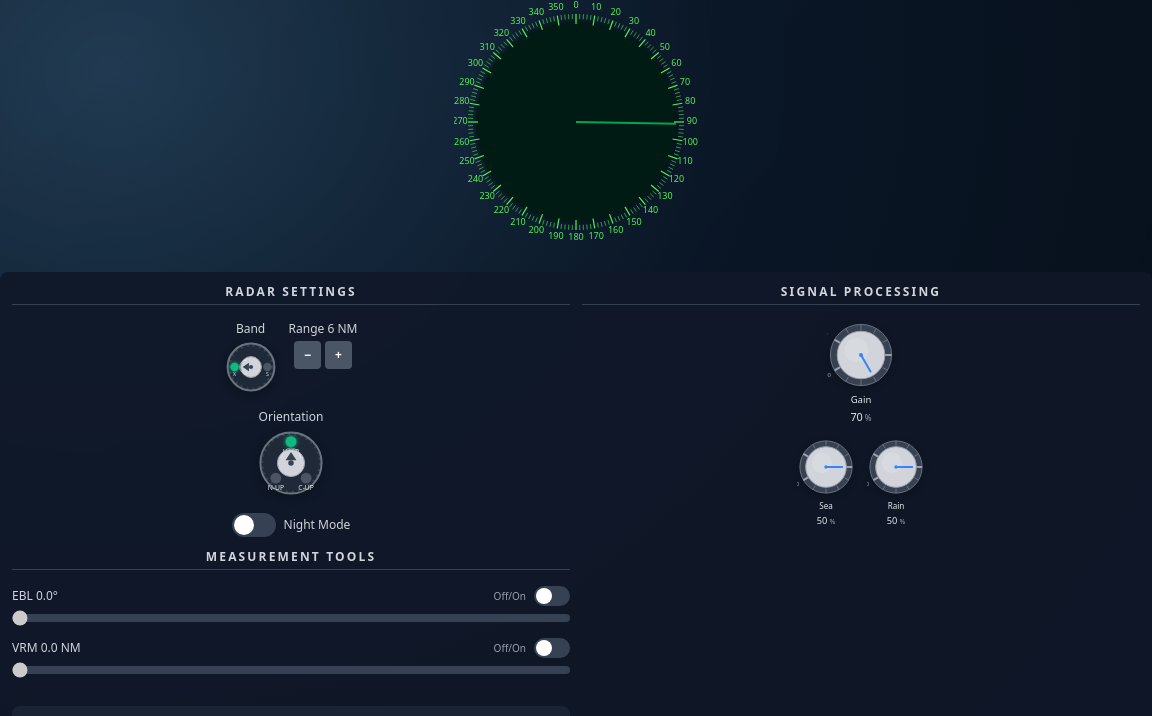
Scenario: RadarDisplay › acquires targets and notifies on settings changes
Click the 1st checkbox labelled "Night Mode" at point(291, 525), box [232,513,350,537]
(page scrolled)
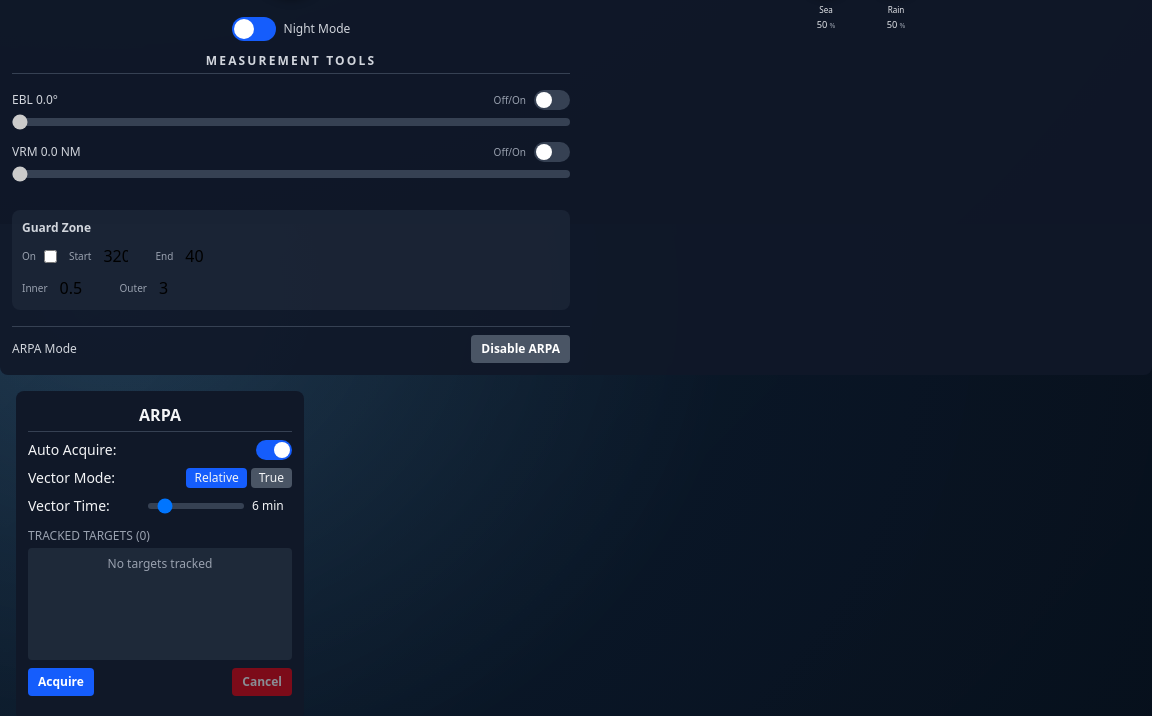
Click the button "Acquire" at point(61, 682), box [28,668,94,696]
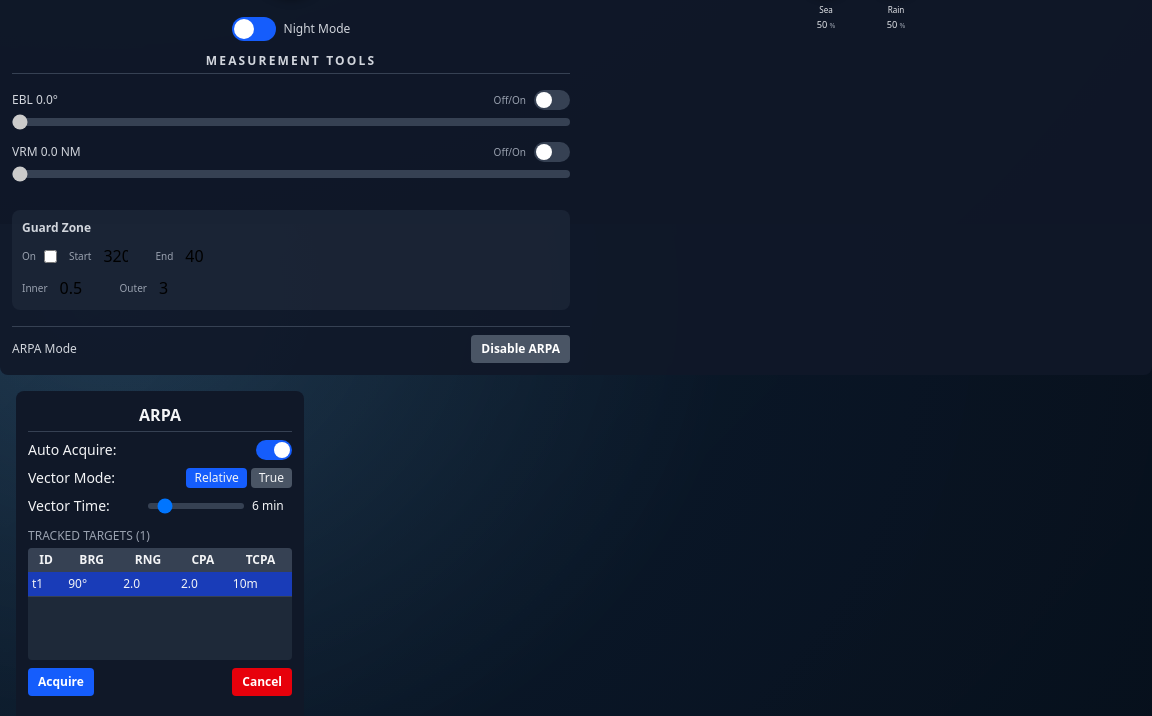
Check: the heading "TRACKED TARGETS (1)" is shown, box [28,527,150,544]
